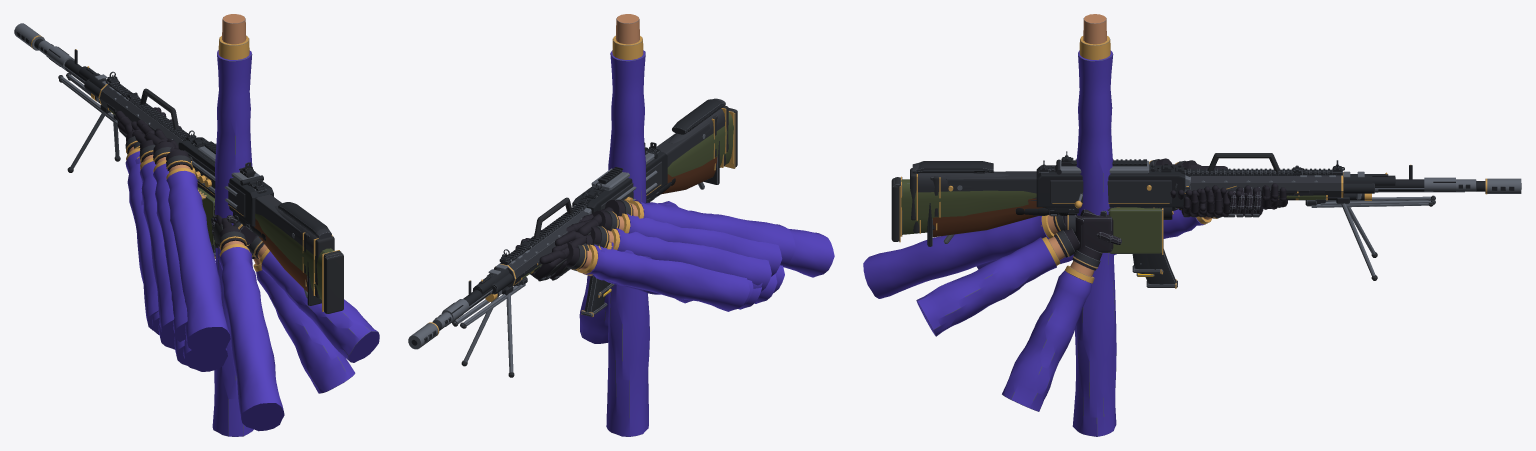
File: weapons.glb
3 views of the same model, side by side, from view 1: azimuth 30°, elevation 25°; view 2: azimuth 150°, elevation 25°; view 3: azimuth 270°, elevation 25° (orthographic).
Visible parts, largest first — view 1: fp_forearm, fp_hand_l_pistol, fp_hand_l_pdw, lmg, sniper, fp_hand_nade, fp_hand_r, fp_hand_l_burst, fp_hand_l_smg, fp_hand_l_dmr, dmr, burst (+4 smaller); view 2: fp_forearm, fp_hand_l_dmr, lmg, fp_hand_l_burst, fp_hand_l_pdw, sniper, fp_hand_l_smg, dmr, fp_hand_l_pistol, fp_hand_nade, dbs, burst (+2 smaller); view 3: fp_forearm, lmg, fp_hand_nade, fp_hand_l_pistol, sniper, fp_hand_r, dmr, lmg_mag, dbs, burst, fp_hand_l, shotgun (+4 smaller).
Boxes of the visible parts, x1,y1,x2,y2 form: fp_forearm: [212, 14, 253, 436]; fp_hand_l_pistol: [211, 206, 284, 431]; fp_hand_l_pdw: [158, 138, 230, 354]; lmg: [47, 46, 334, 285]; sniper: [14, 23, 343, 313]; fp_hand_nade: [212, 210, 355, 393]; fp_hand_r: [246, 235, 379, 362]; fp_hand_l_burst: [132, 119, 181, 342]; fp_hand_l_smg: [145, 128, 187, 341]; fp_hand_l_dmr: [115, 107, 166, 330]; dmr: [38, 40, 341, 257]; burst: [191, 138, 308, 273]; fp_forearm: [606, 14, 649, 436]; fp_hand_l_dmr: [515, 238, 749, 311]; lmg: [441, 105, 728, 377]; fp_hand_l_burst: [555, 225, 771, 291]; fp_hand_l_pdw: [579, 199, 795, 266]; sniper: [408, 99, 737, 349]; fp_hand_l_smg: [566, 210, 782, 276]; dmr: [432, 98, 735, 329]; fp_hand_l_pistol: [689, 210, 834, 277]; fp_hand_nade: [579, 276, 608, 343]; dbs: [661, 141, 719, 194]; burst: [531, 116, 716, 273]; fp_forearm: [1072, 14, 1116, 436]; lmg: [910, 153, 1455, 280]; fp_hand_nade: [1002, 215, 1113, 411]; fp_hand_l_pistol: [863, 215, 1065, 298]; sniper: [891, 161, 1521, 243]; fp_hand_r: [916, 207, 1115, 336]; dmr: [894, 163, 1476, 236]; lmg_mag: [1108, 207, 1163, 254]; dbs: [927, 198, 1045, 246]; burst: [933, 163, 1298, 217]; fp_hand_l: [1114, 186, 1261, 255]; shotgun: [913, 171, 1395, 233].
Size of what is drawn, in the model's own units: 0.4852 by 1 by 1.46.
